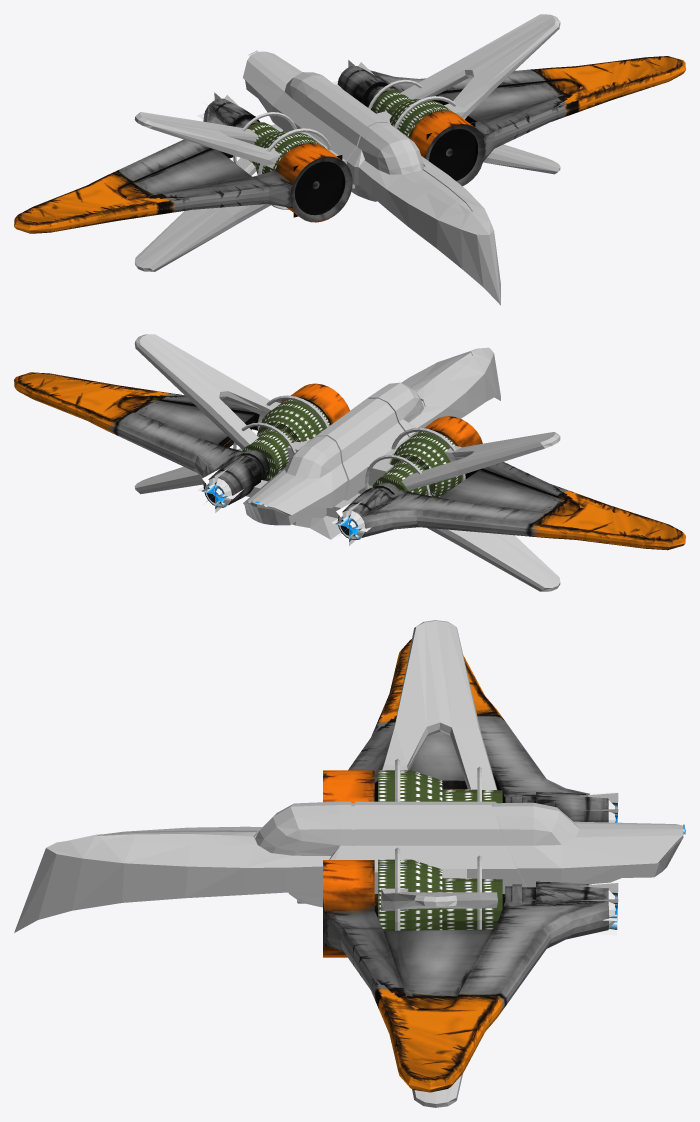
The model's file is arc-170.obj.
3 renders of one model, top to bottom at view 1: azimuth 30°, elevation 25°; view 2: azimuth 150°, elevation 25°; view 3: azimuth 270°, elevation 25°, orthographic. The views are drawn at different scales.
Visible parts, largest first — view 1: ManiBody_Plane.062, R_Wing_Larg_Circle, L_Wing_Small_Circle.001, L_Wing_Up_Circle.004, R_Wing_Down_Circle.008, R_Wing_Up_Circle.007, R_Turbine_Blur_Plane.069, L_Turbine_Blur_Plane.068, Left_Vent_Circle.003, Rings_Torus.001, L_Wing_Down_Circle.006, Right_Vent_Circle.005; view 2: ManiBody_Plane.062, R_Wing_Larg_Circle, L_Wing_Small_Circle.001, L_Wing_Up_Circle.004, R_Wing_Down_Circle.008, R_Wing_Up_Circle.007, Left_Vent_Circle.003, Right_Vent_Circle.005, Rings_Torus.001, L_Wing_Down_Circle.006, Jet_2_Circle.002, R_Jet_1.001_Plane.011 (+1 smaller); view 3: ManiBody_Plane.062, L_Wing_Small_Circle.001, R_Wing_Larg_Circle, R_Wing_Up_Circle.007, Left_Vent_Circle.003, Right_Vent_Circle.005, L_Wing_Up_Circle.004, Rings_Torus.001, L_Wing_Down_Circle.006.
Part boxes in pixels (x1,y1,x2,y2): ManiBody_Plane.062: [243, 51, 500, 305]; R_Wing_Larg_Circle: [14, 98, 352, 233]; L_Wing_Small_Circle.001: [337, 56, 685, 186]; L_Wing_Up_Circle.004: [401, 14, 560, 119]; R_Wing_Down_Circle.008: [134, 158, 272, 271]; R_Wing_Up_Circle.007: [134, 112, 280, 168]; R_Turbine_Blur_Plane.069: [293, 155, 342, 217]; L_Turbine_Blur_Plane.068: [426, 122, 475, 178]; Left_Vent_Circle.003: [371, 90, 452, 137]; Rings_Torus.001: [233, 79, 456, 209]; L_Wing_Down_Circle.006: [483, 144, 560, 174]; Right_Vent_Circle.005: [247, 122, 324, 174]; ManiBody_Plane.062: [243, 347, 500, 539]; R_Wing_Larg_Circle: [337, 416, 685, 550]; L_Wing_Small_Circle.001: [14, 372, 349, 507]; L_Wing_Up_Circle.004: [134, 334, 280, 449]; R_Wing_Down_Circle.008: [427, 528, 560, 591]; R_Wing_Up_Circle.007: [401, 432, 560, 490]; Left_Vent_Circle.003: [242, 399, 330, 481]; Right_Vent_Circle.005: [372, 432, 465, 497]; Rings_Torus.001: [233, 395, 465, 495]; L_Wing_Down_Circle.006: [134, 448, 242, 494]; Jet_2_Circle.002: [205, 478, 365, 539]; R_Jet_1.001_Plane.011: [197, 468, 243, 512]; ManiBody_Plane.062: [14, 801, 685, 932]; L_Wing_Small_Circle.001: [323, 860, 609, 1092]; R_Wing_Larg_Circle: [323, 639, 608, 822]; R_Wing_Up_Circle.007: [382, 620, 497, 789]; Left_Vent_Circle.003: [378, 859, 502, 930]; Right_Vent_Circle.005: [378, 770, 502, 803]; L_Wing_Up_Circle.004: [381, 888, 498, 910]; Rings_Torus.001: [395, 758, 481, 930]; L_Wing_Down_Circle.006: [412, 1074, 462, 1107].
Size of the model in its own units: 35.77 by 7.77 by 22.5.
